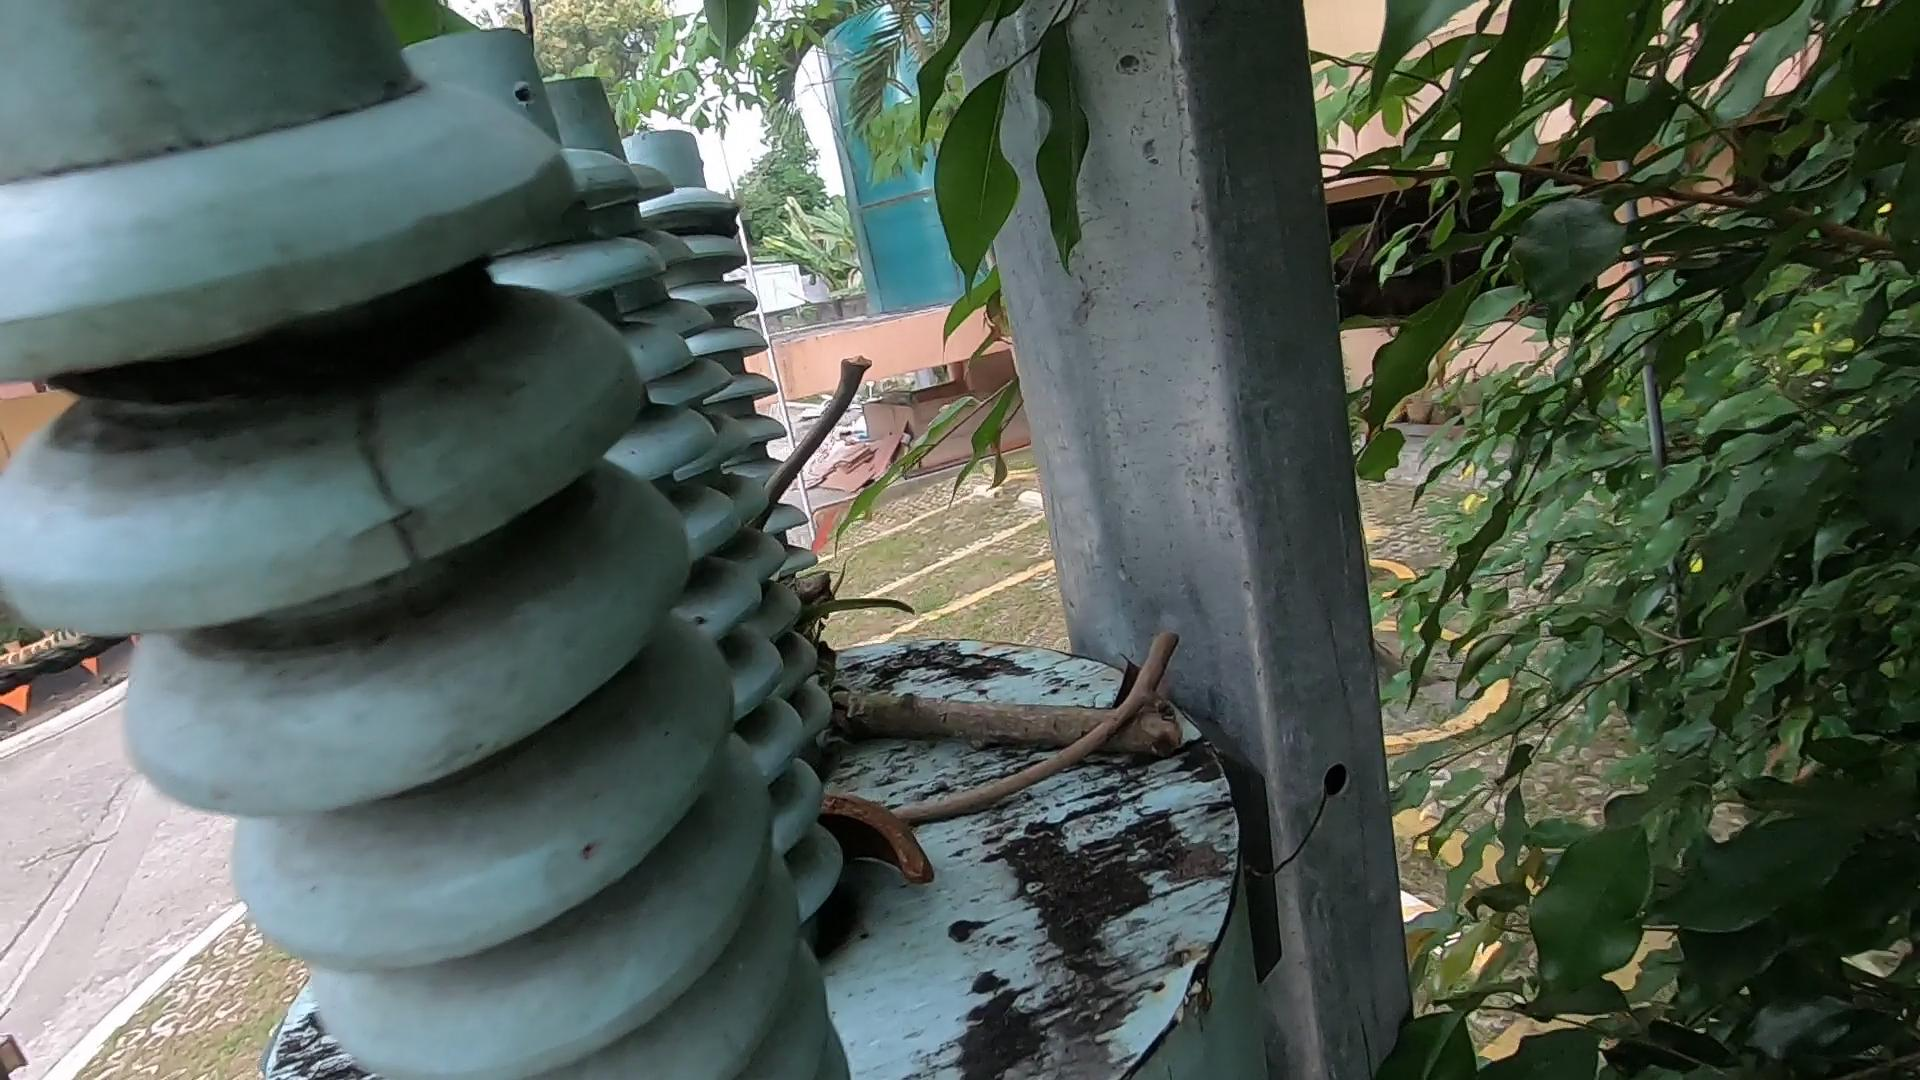branch with leaves: (767, 501, 1185, 749)
mahogany fruit: (793, 793, 947, 936)
tree branch: (847, 615, 1182, 847), (778, 278, 928, 551)
